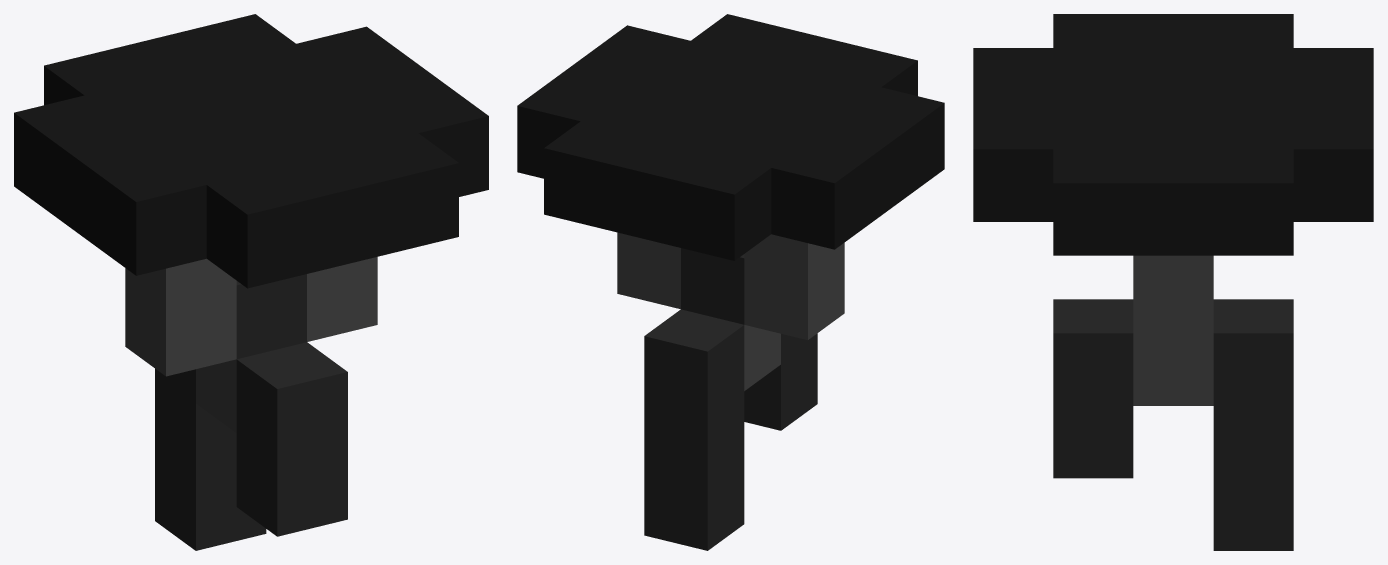
The model's file is chainShort001.obj.
3 renders of one model, left to right at view 1: azimuth 30°, elevation 25°; view 2: azimuth 150°, elevation 25°; view 3: azimuth 270°, elevation 25°, orthographic. The views are drawn at different scales.
Size of the model in its own units: 0.5 by 0.6 by 0.5.
1 material, 1 textured.
